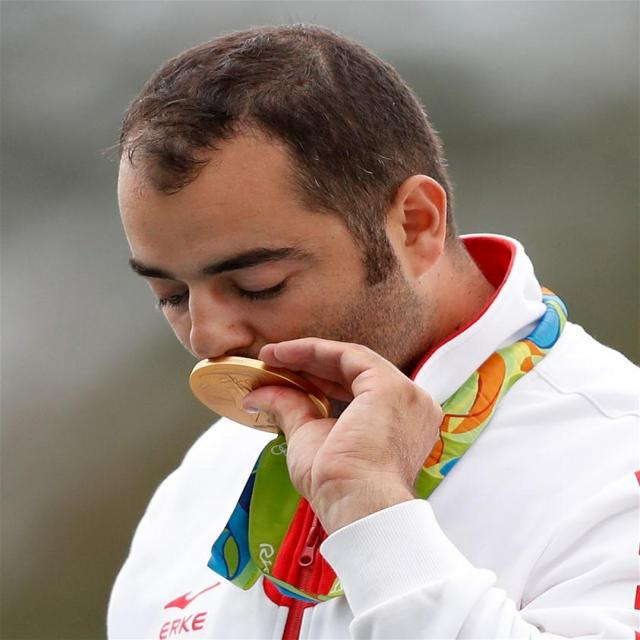nomask: (123, 143, 381, 458)
